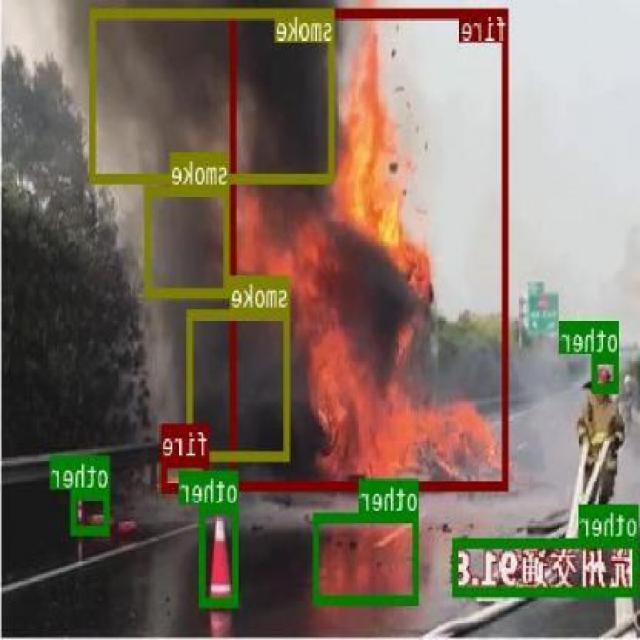Fire: (232, 6, 508, 488)
Smoke: (90, 7, 336, 181), (188, 306, 290, 459), (146, 184, 231, 296)
